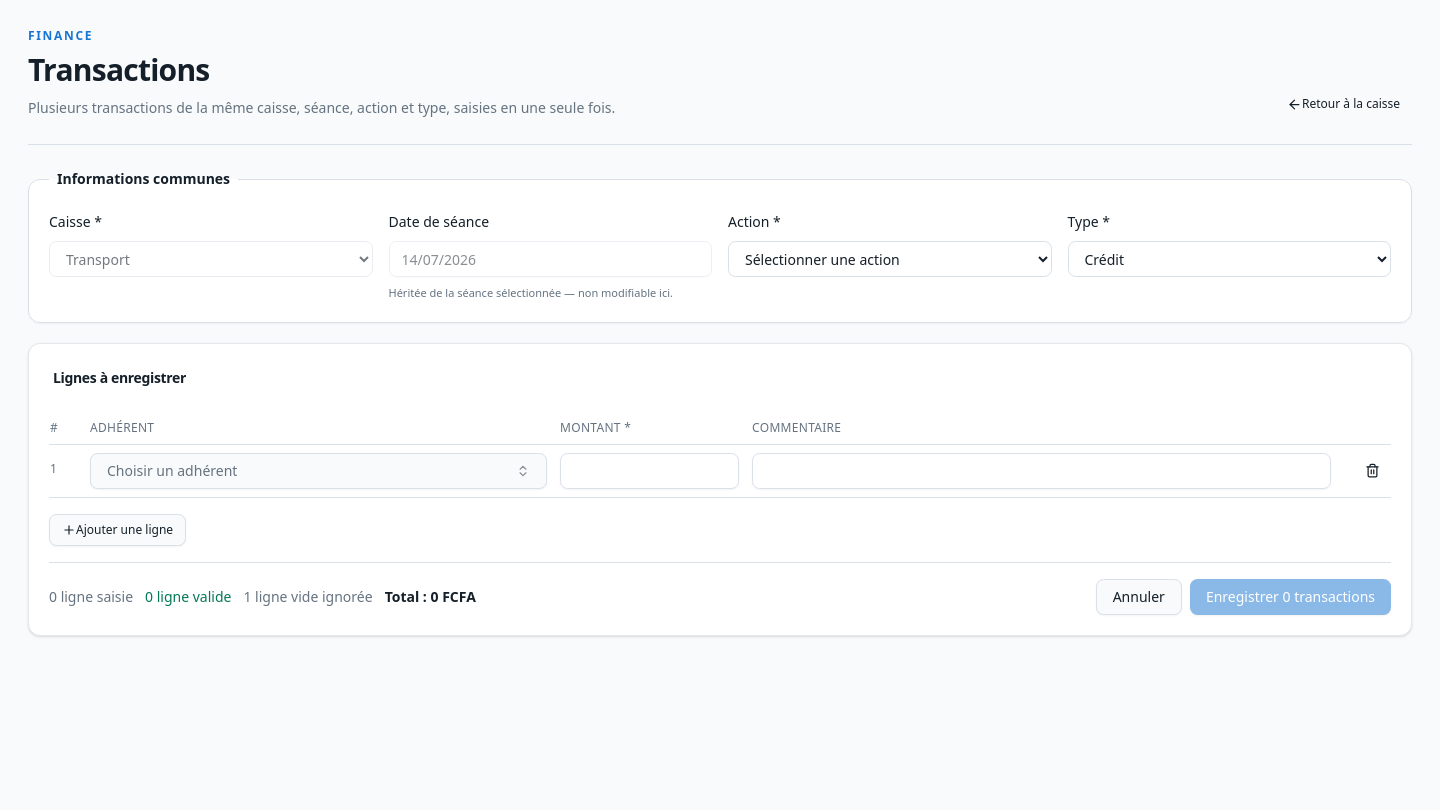
Type des transactions — saisie rapide › « Autres » libre : Crédit et Débit tous deux acceptés à l’enregistrement
The image size is (1440, 810).
Expected: the heading "Transactions" is shown, [28,49,210,90]
Expected: the dropdown labelled "Caisse *" shows "Transport", [49,241,372,277]
Select "Autres" in the dropdown labelled "Action *" at (890,259), box [728,241,1052,277]
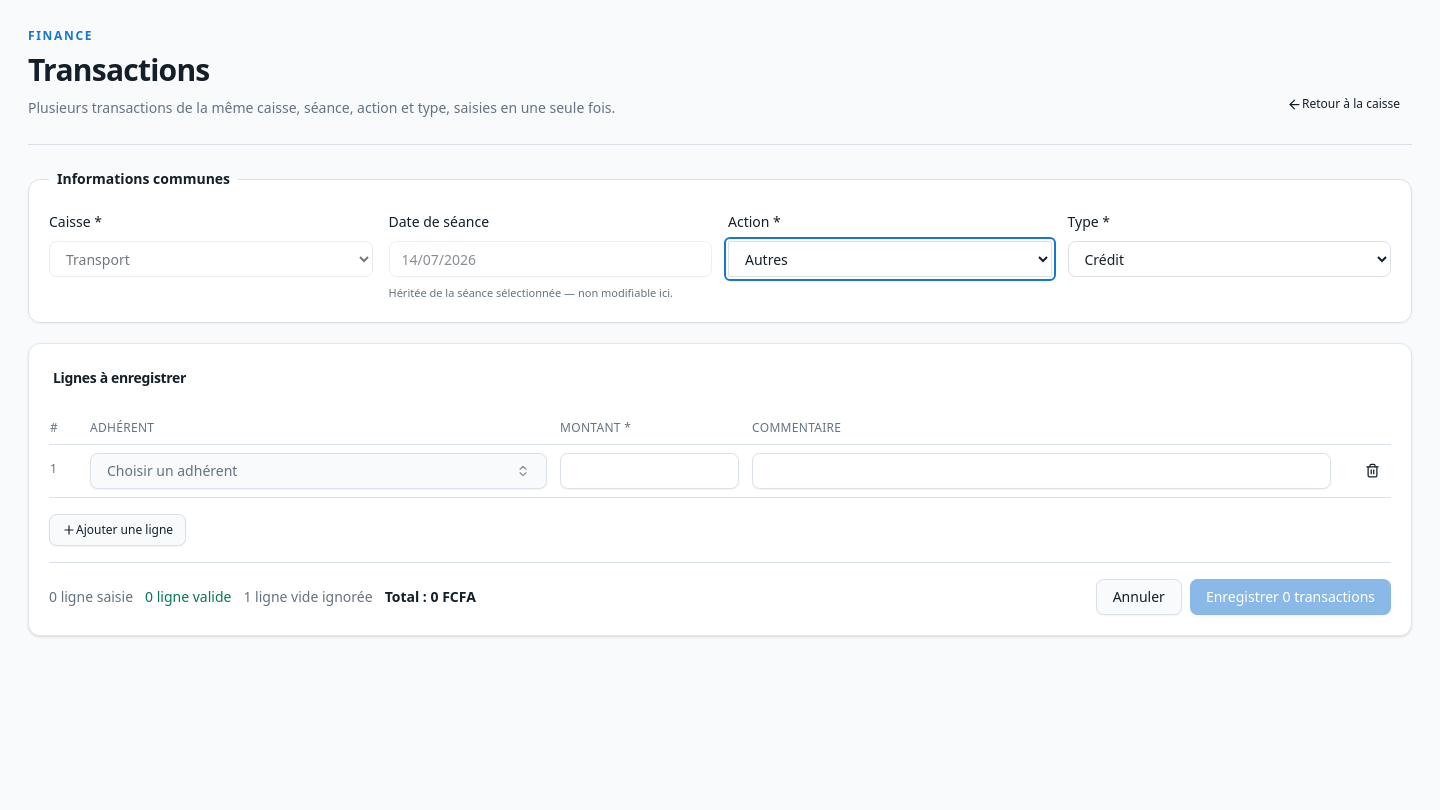
Select "Débit" in the dropdown labelled "Type *" at (1229,259), box [1068,241,1391,277]
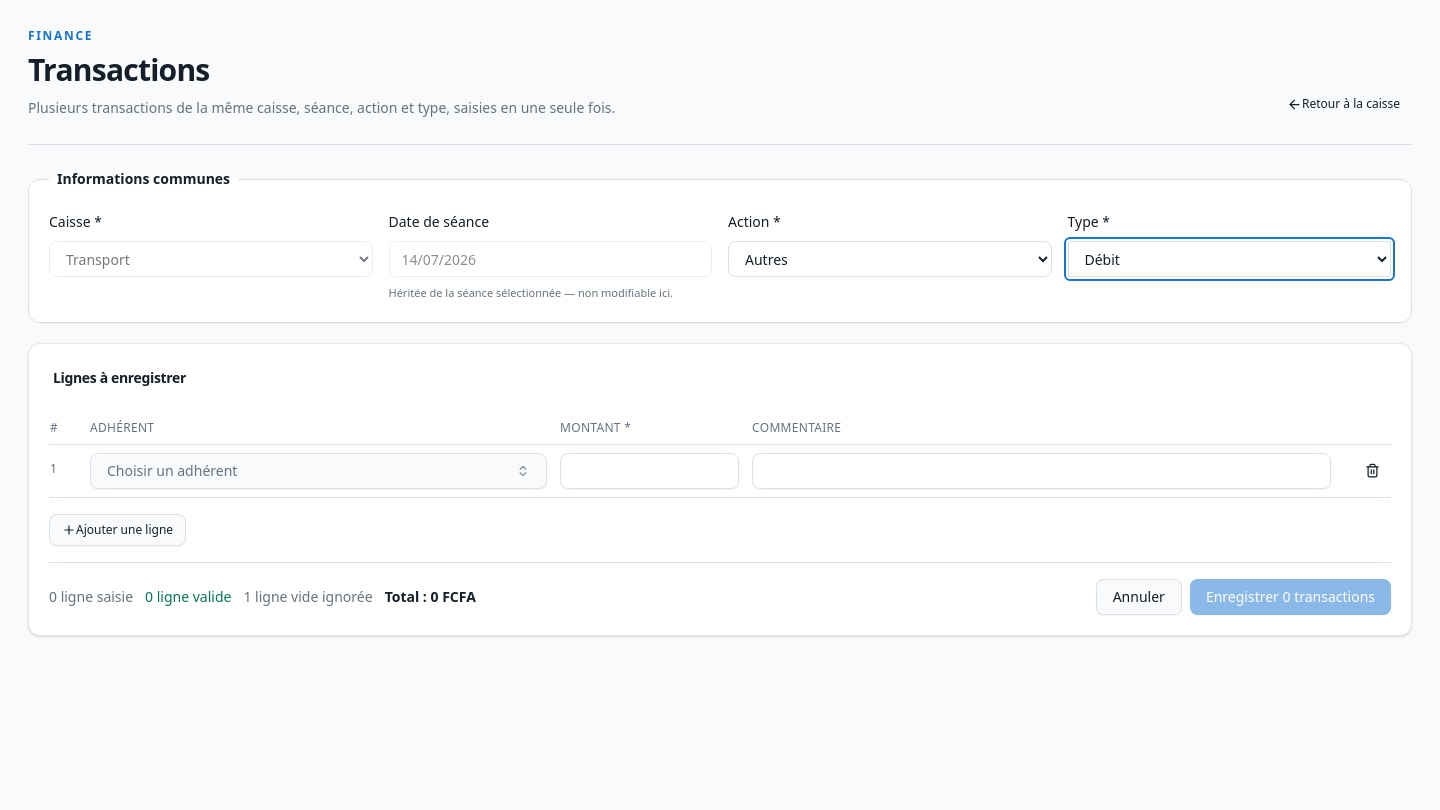
Type "7000" into the field named "Montant de la ligne 1" at (650,470), box [560,452,739,488]
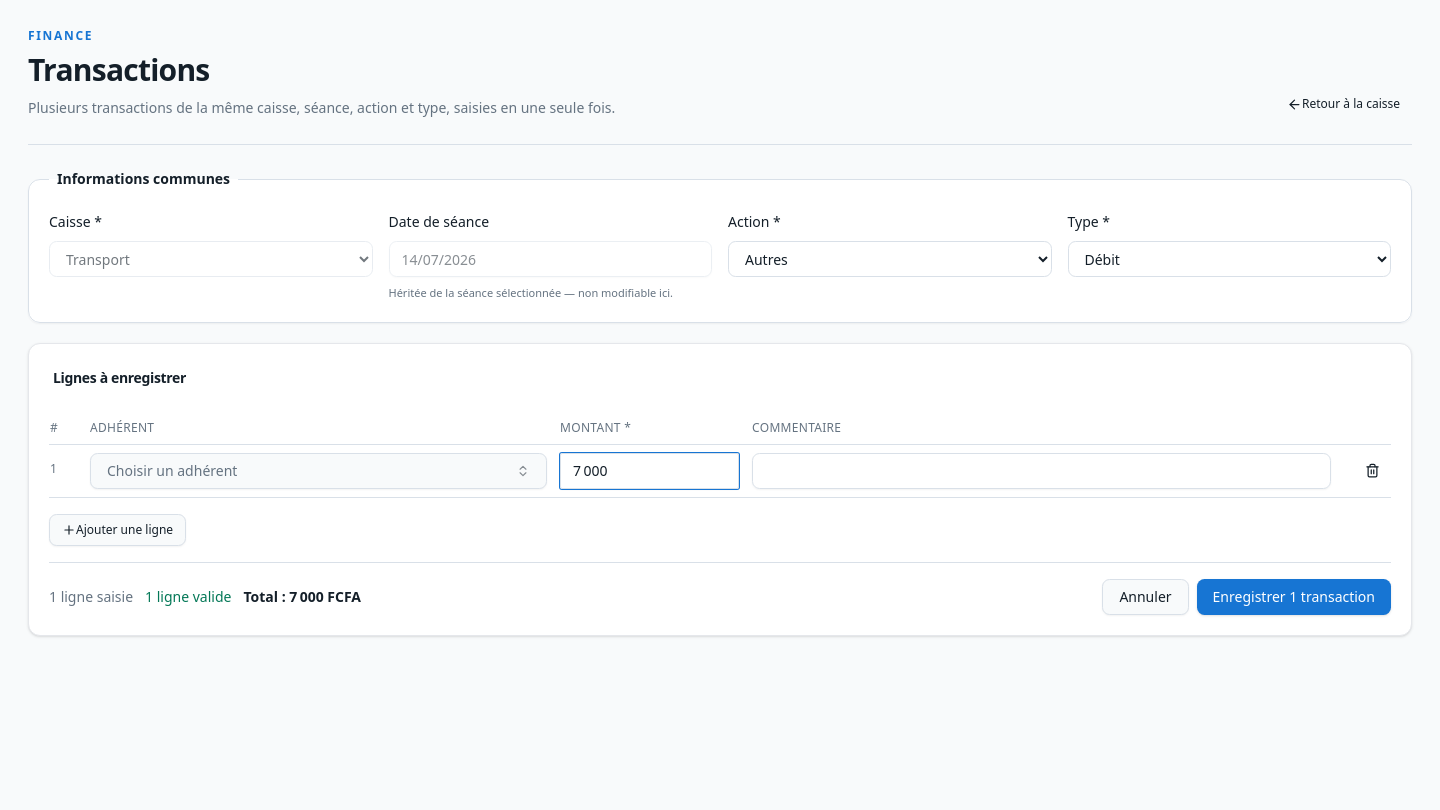
Click the button "Enregistrer 1 transaction" at (1294,596), box [1197,578,1391,614]
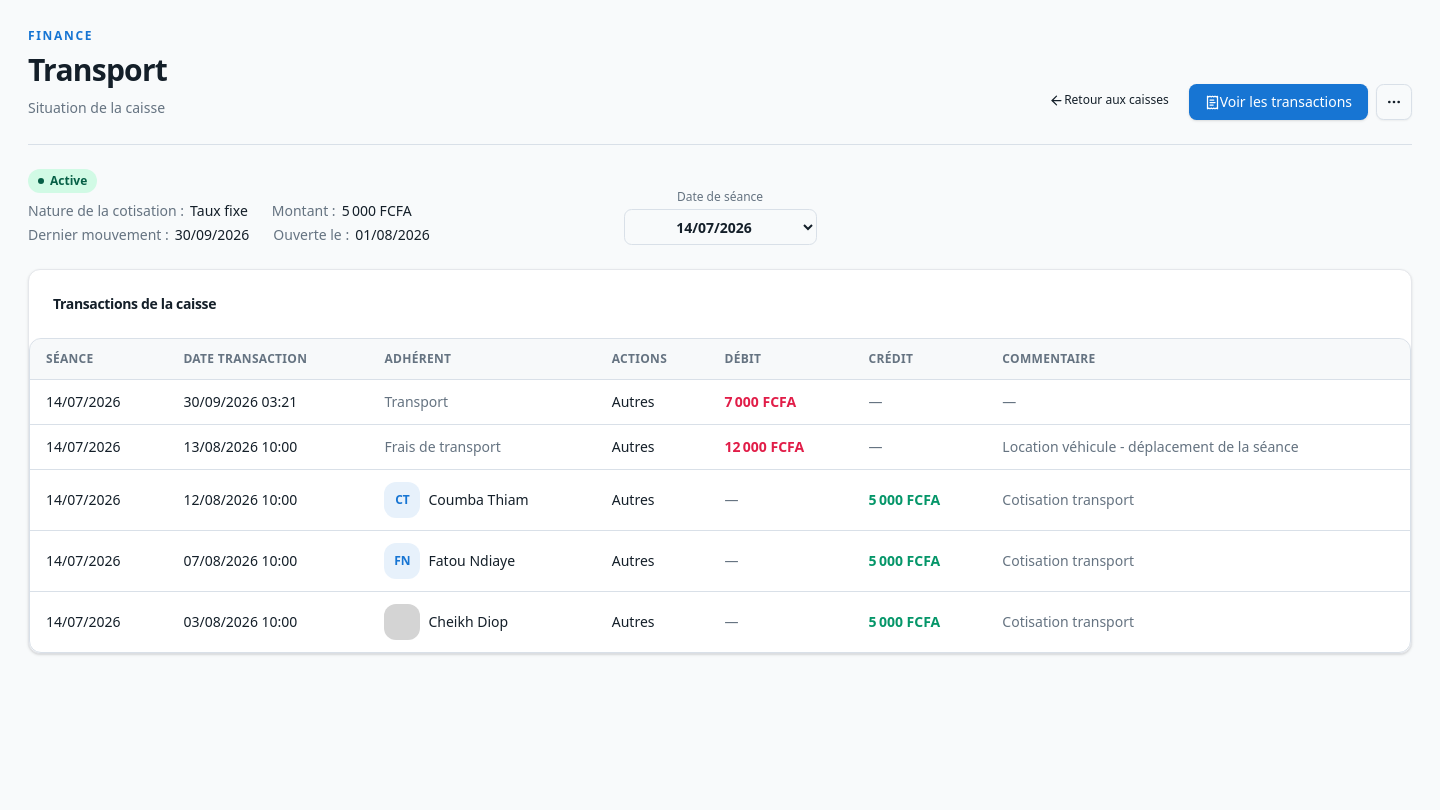
Expected: the heading "Transport" is shown, [28,52,167,88]
